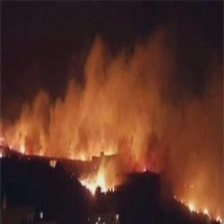fire: (65, 147, 129, 207), (174, 190, 224, 223)
smoke: (44, 62, 224, 139)
